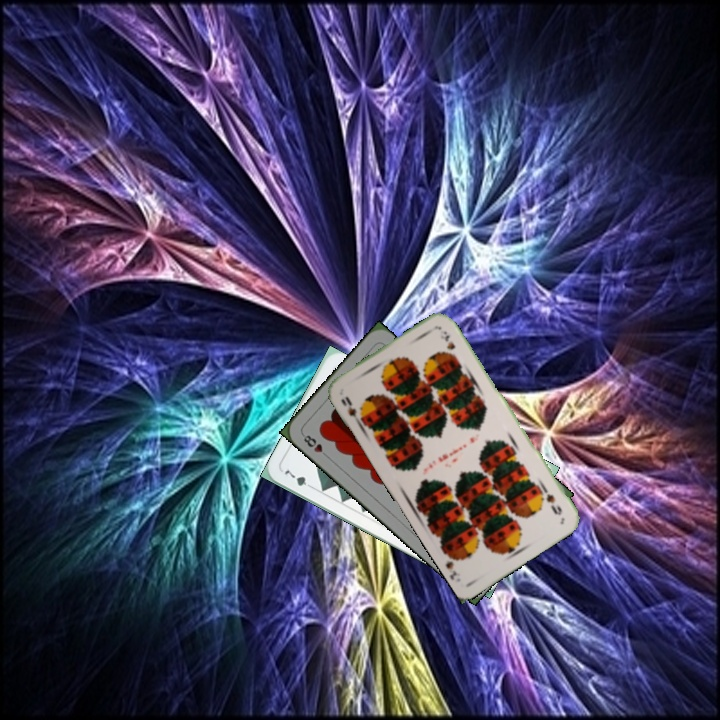G7: (280, 466, 317, 491)
H8: (298, 430, 332, 461)
S9: (337, 392, 367, 427), (537, 483, 564, 518)
